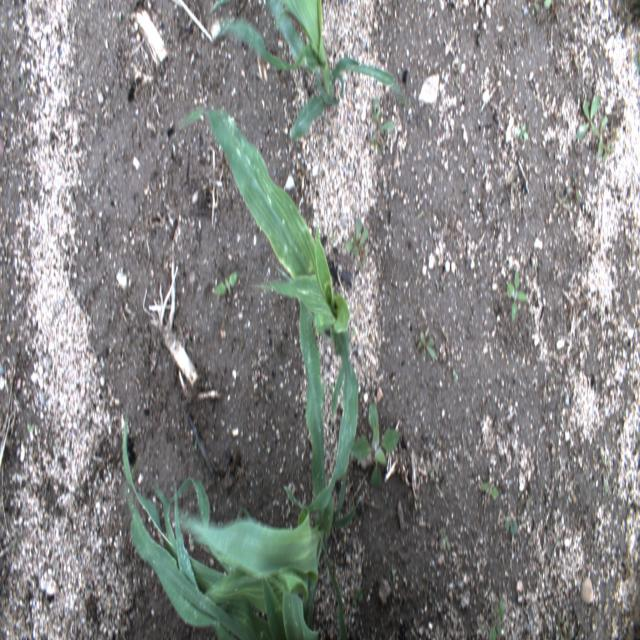crop: (122, 299, 360, 638), (178, 110, 350, 420), (214, 0, 406, 140)
weed: (351, 402, 399, 486), (505, 267, 529, 324), (576, 93, 600, 140), (488, 596, 506, 640), (373, 98, 395, 134), (346, 218, 368, 254), (214, 271, 238, 296), (556, 614, 576, 639), (420, 334, 436, 362), (598, 115, 607, 156), (480, 483, 500, 500), (554, 192, 571, 212), (601, 139, 614, 164), (531, 0, 550, 15), (505, 173, 515, 199), (441, 524, 450, 550), (600, 455, 610, 478), (516, 121, 528, 140), (504, 520, 518, 536), (353, 585, 363, 607), (456, 57, 462, 88), (27, 421, 34, 436)
